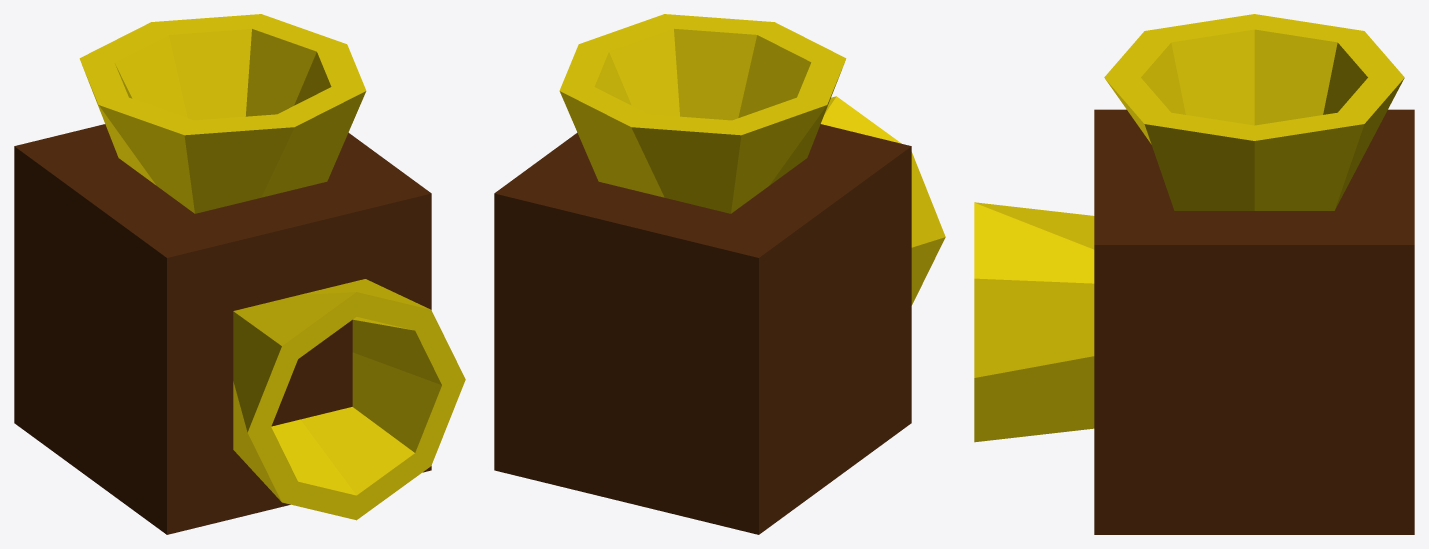
File: Beam_Reflector.fbx
The picture shows the model from 3 angles, left to right: view 1: azimuth 30°, elevation 25°; view 2: azimuth 150°, elevation 25°; view 3: azimuth 270°, elevation 25°; orthographic projection. The views are drawn at different scales.
Visible parts, largest first — view 1: Beam_Reflector; view 2: Beam_Reflector; view 3: Beam_Reflector.
Part boxes in pixels (x1=…): Beam_Reflector: x1=14, y1=14, x2=465, y2=534; Beam_Reflector: x1=494, y1=14, x2=945, y2=534; Beam_Reflector: x1=974, y1=14, x2=1414, y2=534.
Size of the model in its own units: 44.82 by 32.6 by 43.8.
